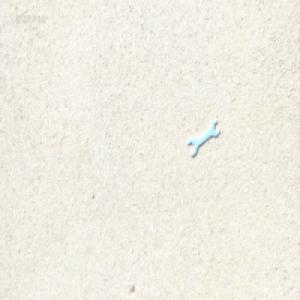Wrench: (188, 121, 219, 157)
